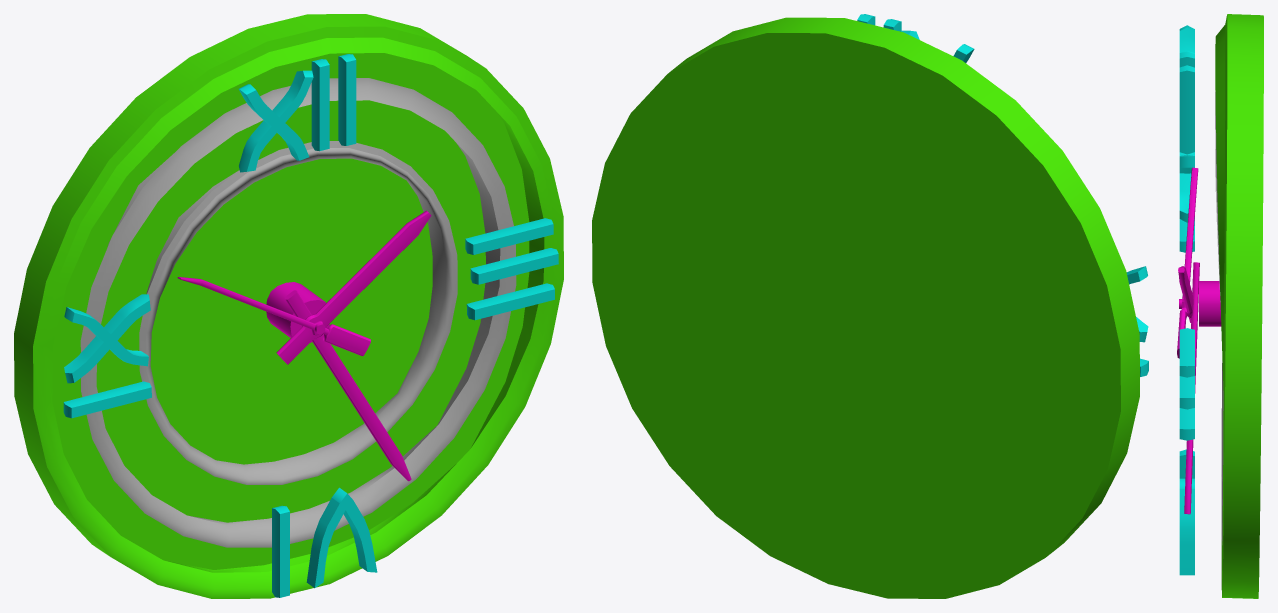
File: FutureClockNoAnim.fbx
The picture shows the model from 3 angles, left to right: view 1: azimuth 30°, elevation 25°; view 2: azimuth 150°, elevation 25°; view 3: azimuth 270°, elevation 25°; orthographic projection. The views are drawn at different scales.
Parts seen in each view (by area): view 1: ClockIDSub1, Twelve, nineX, five, twelve2, twelve1, nine1, three1, three2, three3, five1; view 2: ClockIDSub1; view 3: ClockIDSub1, twelve2, five, nineX, three1, three2, three3, Twelve, nine1, five1, twelve1.
Part boxes in pixels (x1=…): ClockIDSub1: x1=14, y1=14, x2=563, y2=598; Twelve: x1=238, y1=70, x2=313, y2=172; nineX: x1=64, y1=294, x2=150, y2=383; five: x1=306, y1=487, x2=377, y2=588; twelve2: x1=338, y1=54, x2=356, y2=145; twelve1: x1=311, y1=59, x2=329, y2=151; nine1: x1=63, y1=381, x2=151, y2=418; three1: x1=465, y1=218, x2=553, y2=254; three2: x1=470, y1=248, x2=558, y2=284; three3: x1=466, y1=283, x2=554, y2=320; five1: x1=272, y1=505, x2=289, y2=597; ClockIDSub1: x1=592, y1=17, x2=1139, y2=598; ClockIDSub1: x1=1177, y1=14, x2=1263, y2=598; twelve2: x1=1179, y1=65, x2=1194, y2=154; five: x1=1179, y1=478, x2=1194, y2=575; nineX: x1=1179, y1=152, x2=1194, y2=222; three1: x1=1179, y1=328, x2=1194, y2=377; three2: x1=1179, y1=376, x2=1194, y2=409; three3: x1=1179, y1=408, x2=1194, y2=440; Twelve: x1=1179, y1=25, x2=1194, y2=53; nine1: x1=1179, y1=219, x2=1194, y2=252; five1: x1=1179, y1=449, x2=1194, y2=478; twelve1: x1=1179, y1=51, x2=1194, y2=67.
Size of the model in its own units: 37.96 by 38.03 by 5.66.
